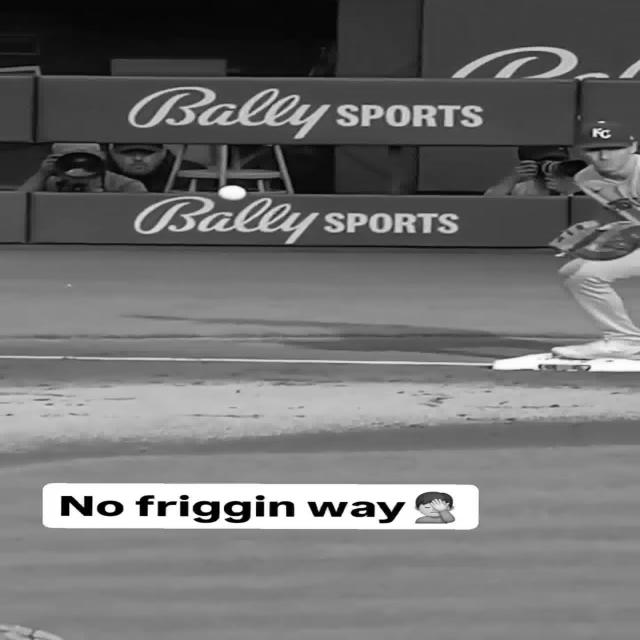base: (491, 352, 640, 372)
baseball: (218, 185, 247, 201)
baseball_glove: (549, 220, 640, 260)
shoe: (551, 339, 640, 360)
